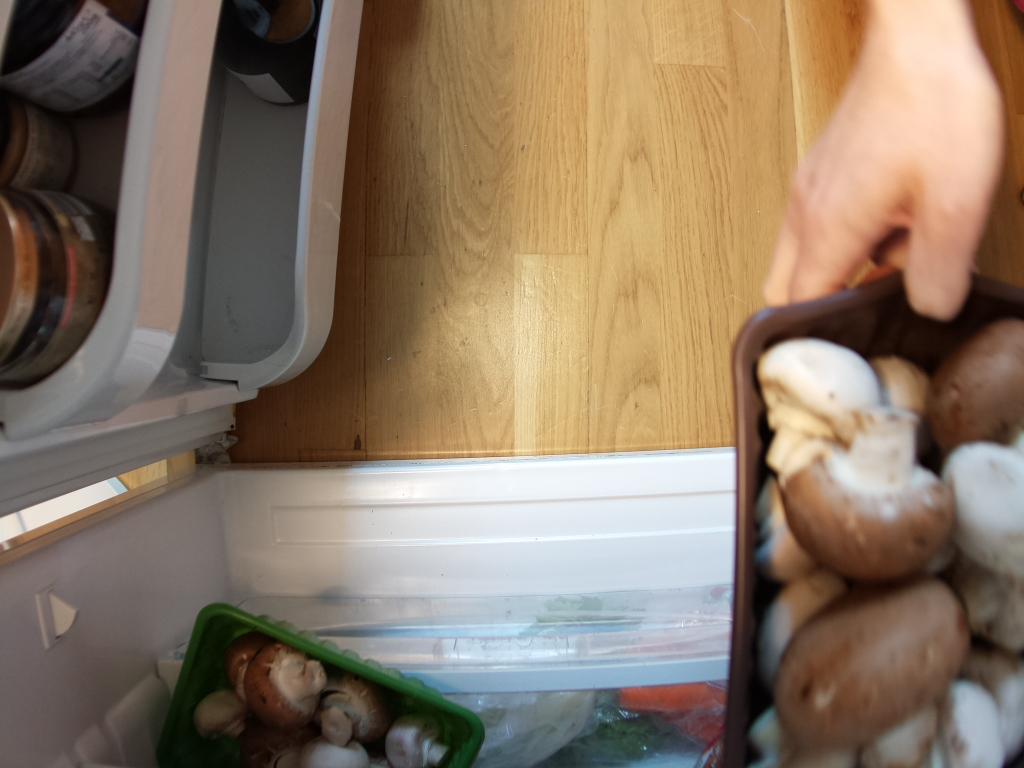mushrooms: (739, 293, 1024, 768), (180, 621, 485, 768)
